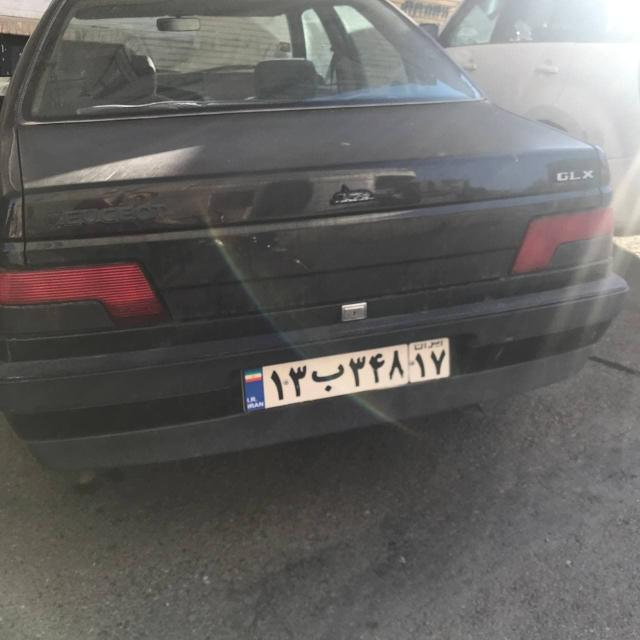Plates: (239, 332, 455, 413)
